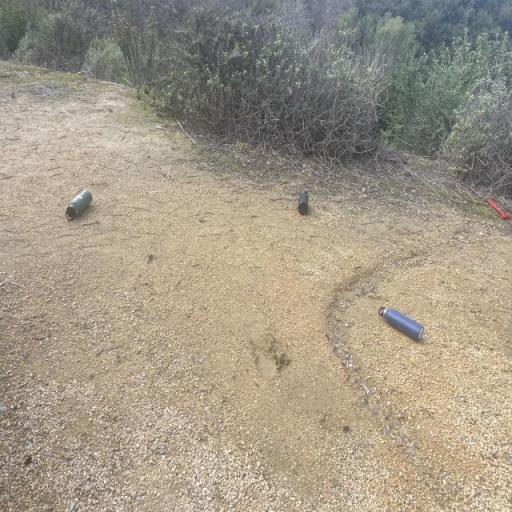bottle: (377, 298, 428, 344), (60, 186, 94, 228), (296, 187, 311, 219)
mallet: (486, 198, 510, 223)
